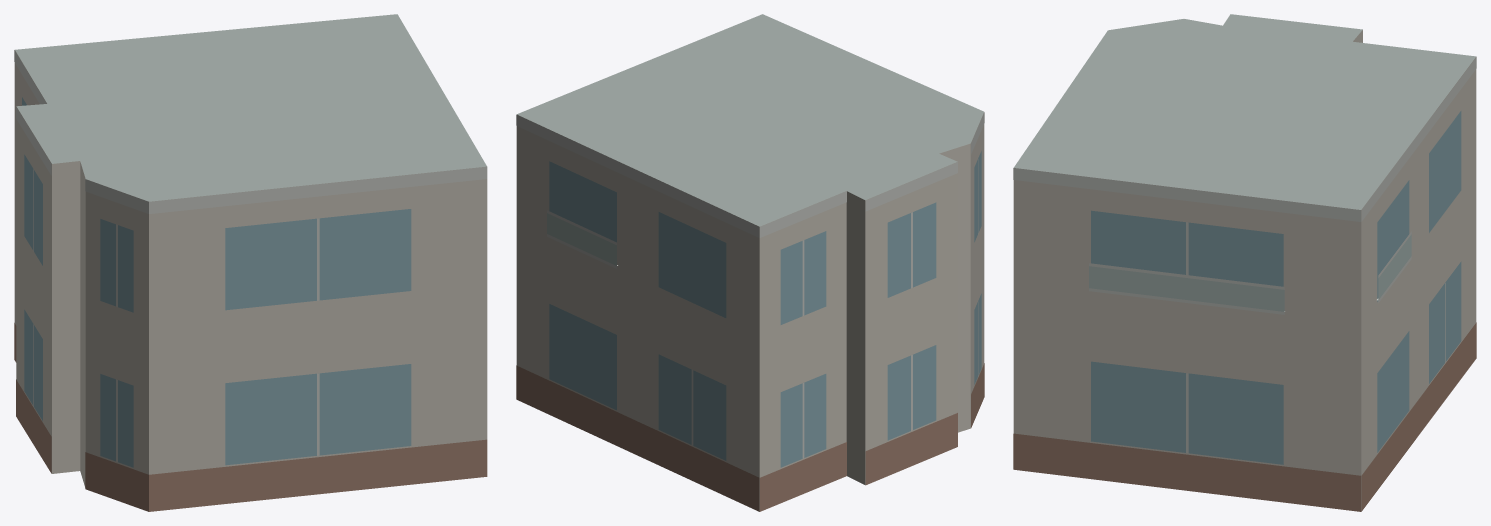
The model's file is survey-upis-32789232.glb.
3 views of the same model, side by side, from view 1: azimuth 30°, elevation 25°; view 2: azimuth 150°, elevation 25°; view 3: azimuth 270°, elevation 25° (orthographic). The views are drawn at different scales.
Parts seen in each view (by area): view 1: survey-upis-32789232.tmp; view 2: survey-upis-32789232.tmp; view 3: survey-upis-32789232.tmp.
Part boxes in pixels (x1,y1,x2,y2): survey-upis-32789232.tmp: (14,14,487,511); survey-upis-32789232.tmp: (516,14,984,511); survey-upis-32789232.tmp: (1013,14,1476,511).
Bounding box in the file's own units: 8.51 × 6.1 × 8.49.
